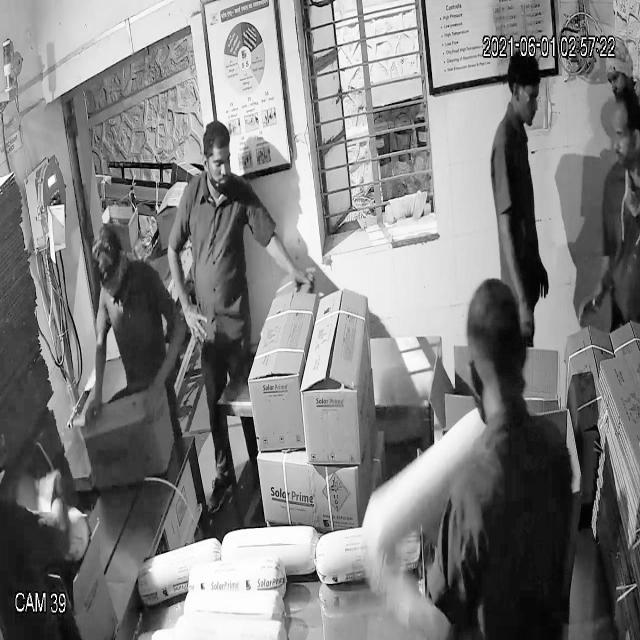glasses: (510, 73, 540, 114)
no-glass: (605, 122, 639, 149)
